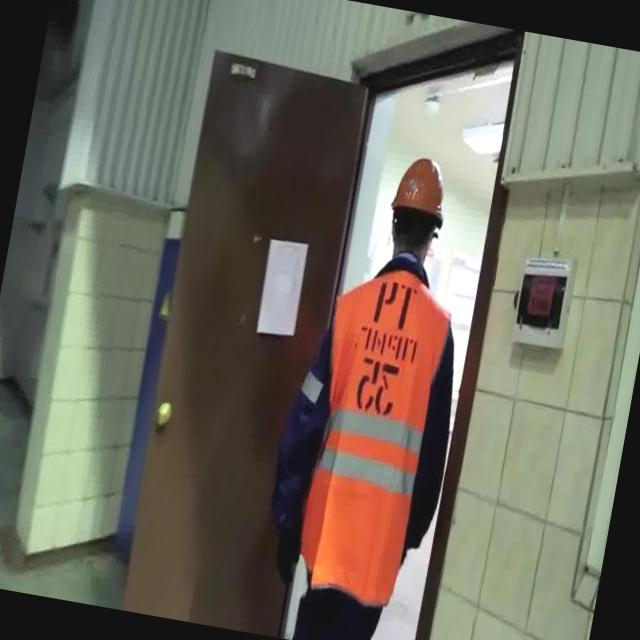helmet: (389, 151, 452, 224)
vest: (282, 258, 458, 610)
